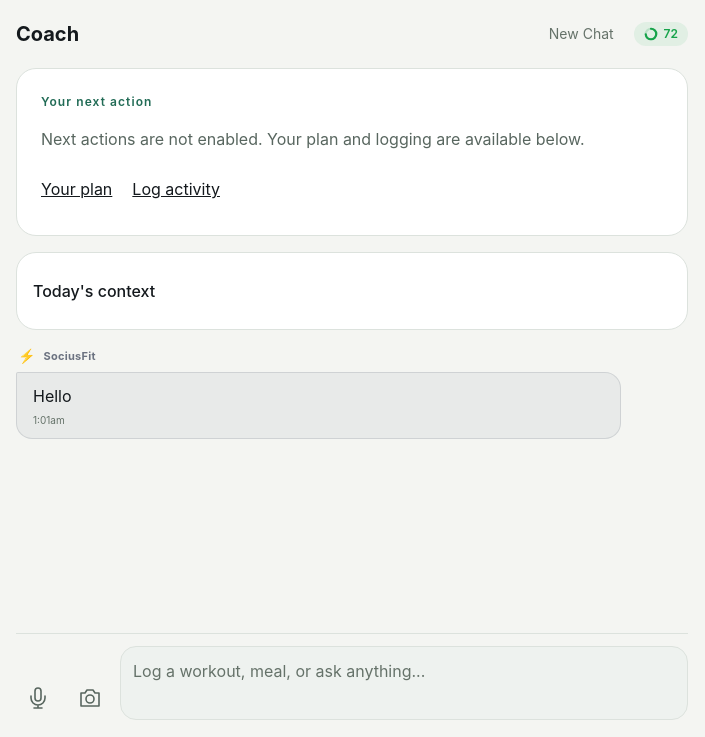
Test: V2Page › conversation controls › clears visible messages when New Chat is clicked
The width and height of the screenshot is (705, 737).
expect the text "Hello" is shown: met, box [33,386,72,406]
Click the button "New Chat".
click(581, 34)  # box [541,12,622,56]
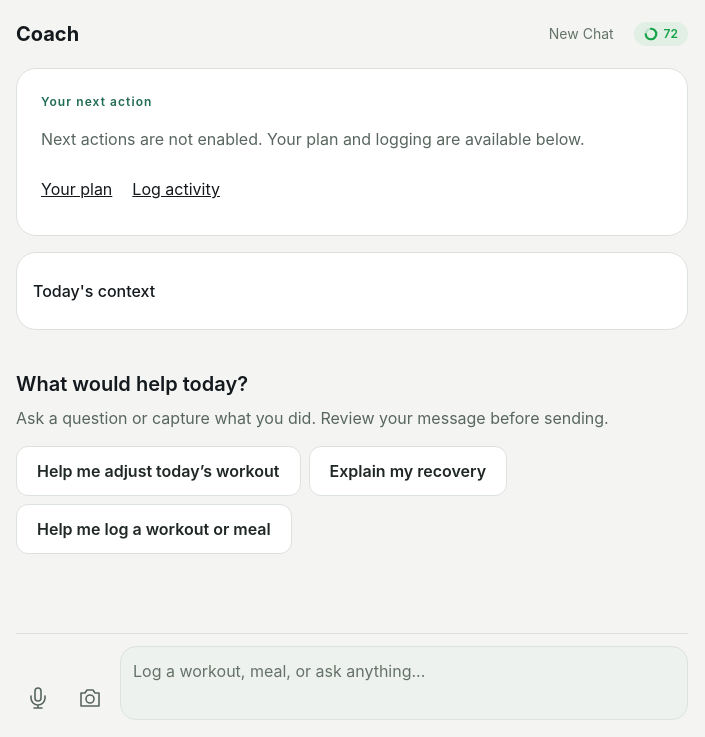
expect the text "Hello" is gone: met
expect the heading "What would help today?" is shown: met, box [16,372,248,396]
